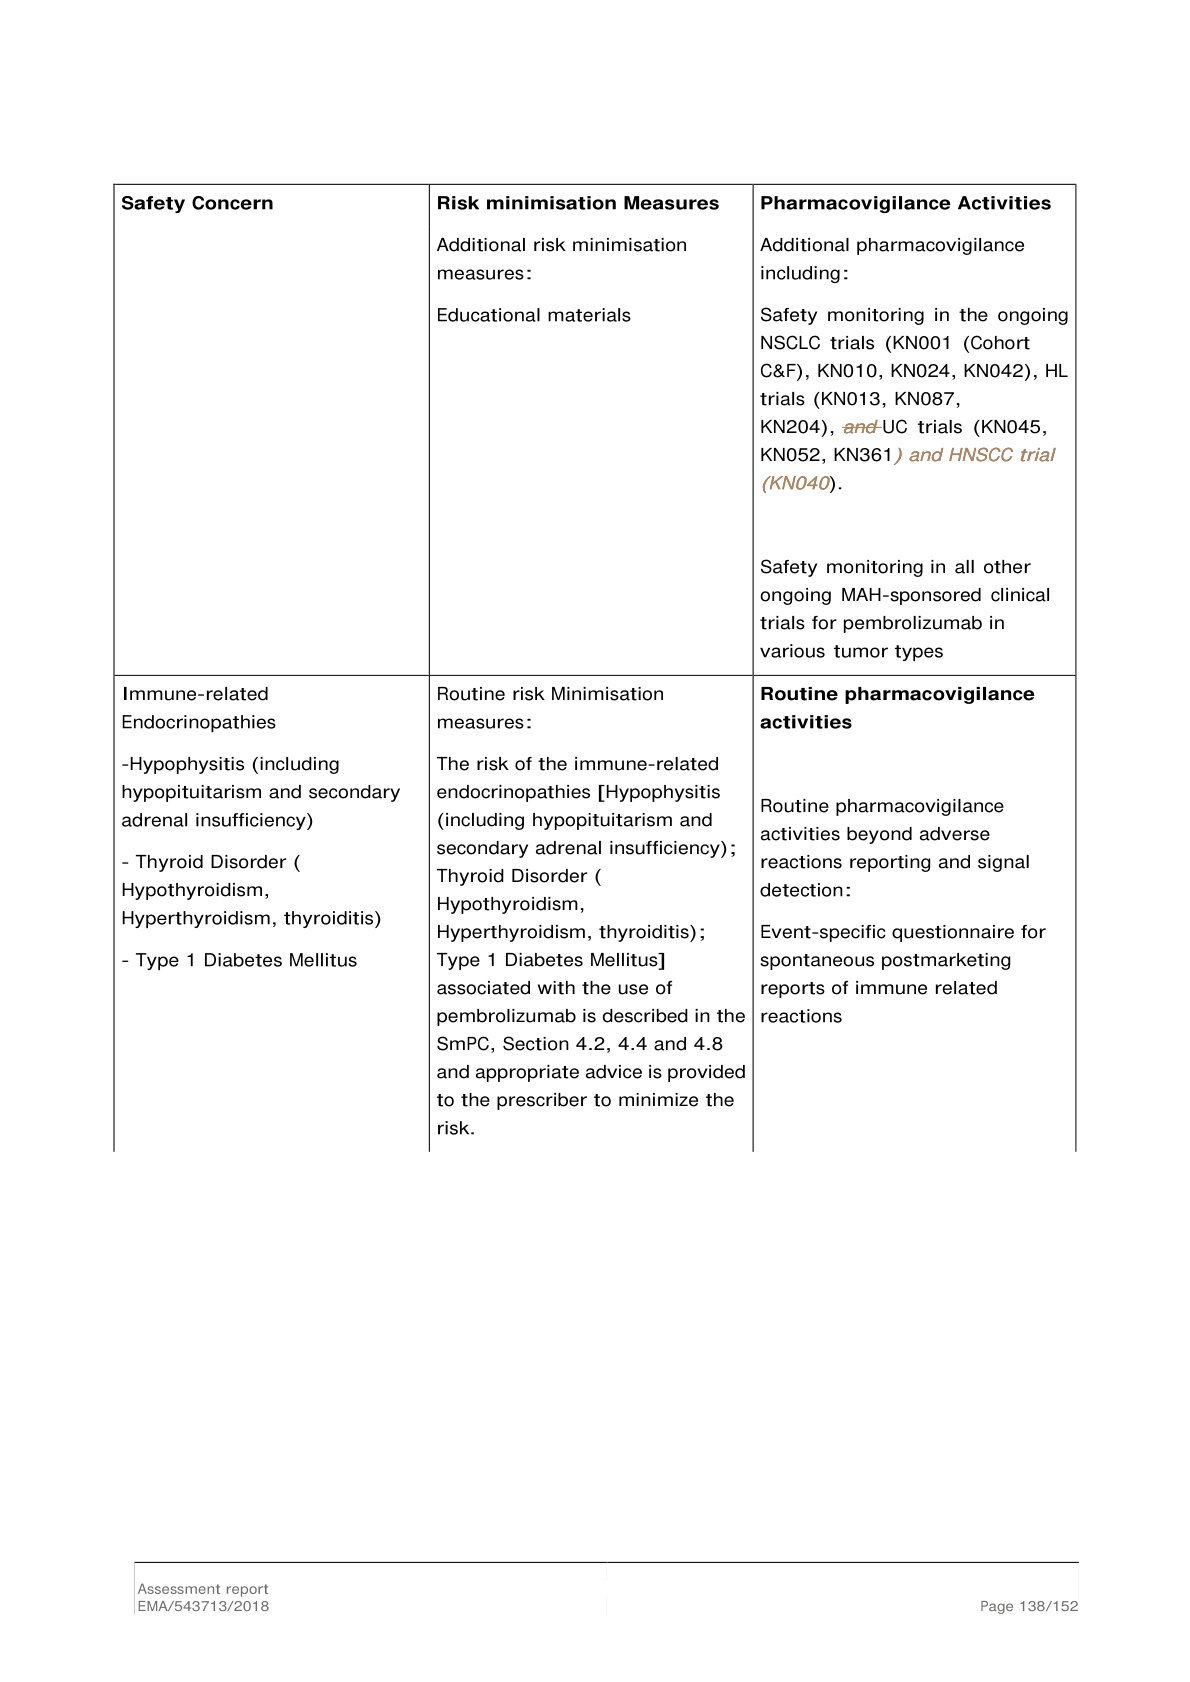partial_lined: (112, 182, 1078, 1154)
